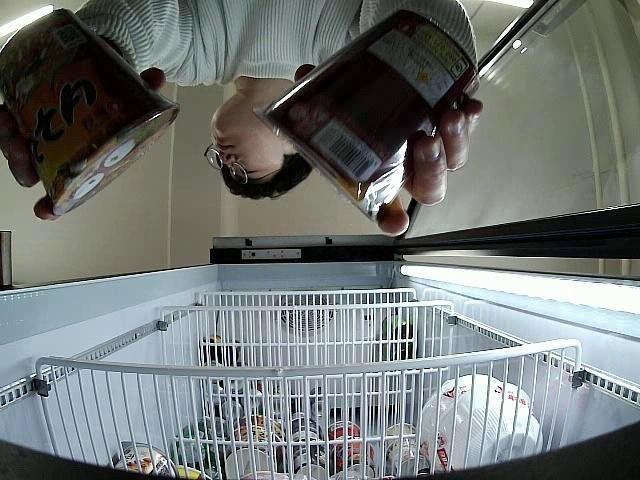06_nuguri_S: (254, 6, 479, 221), (0, 8, 181, 217)
